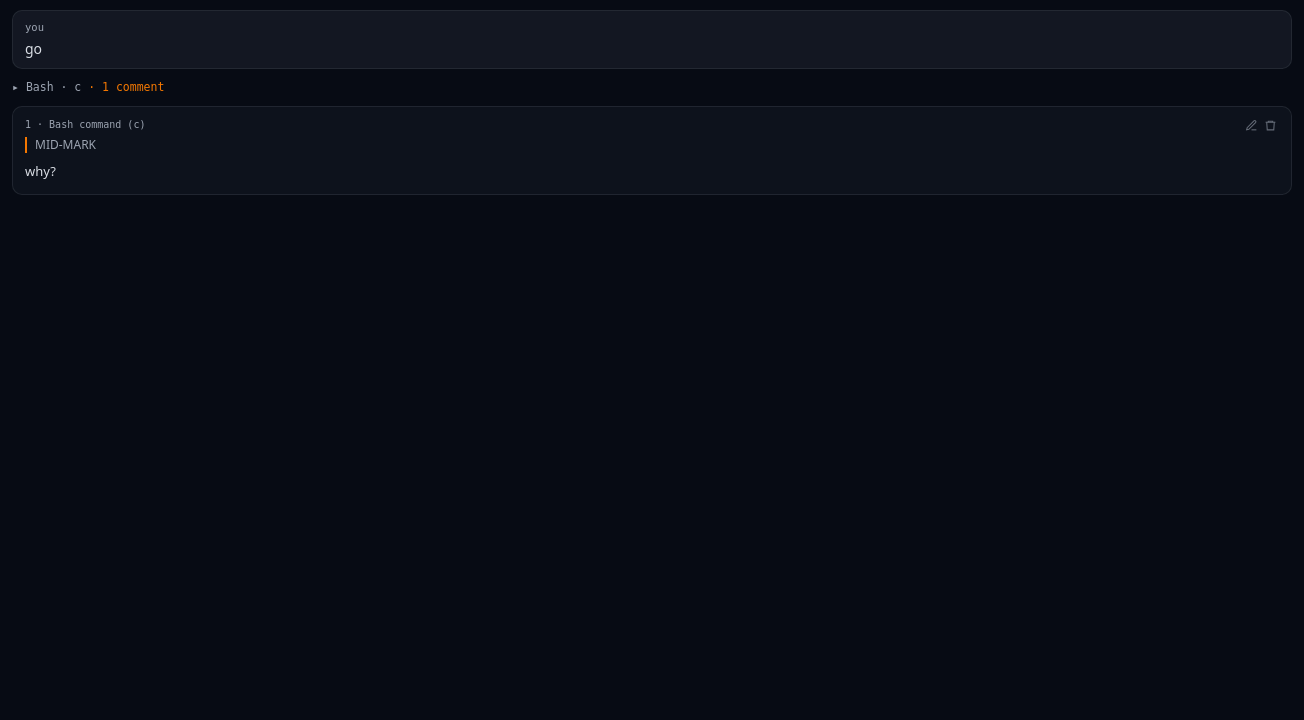
Test: a commented output renders up to its furthest comment plus a margin, not all of it, and the mark resolves
The width and height of the screenshot is (1304, 720).
Click the text "MID-MARK" at x=652, y=145, box [25, 137, 1279, 153]
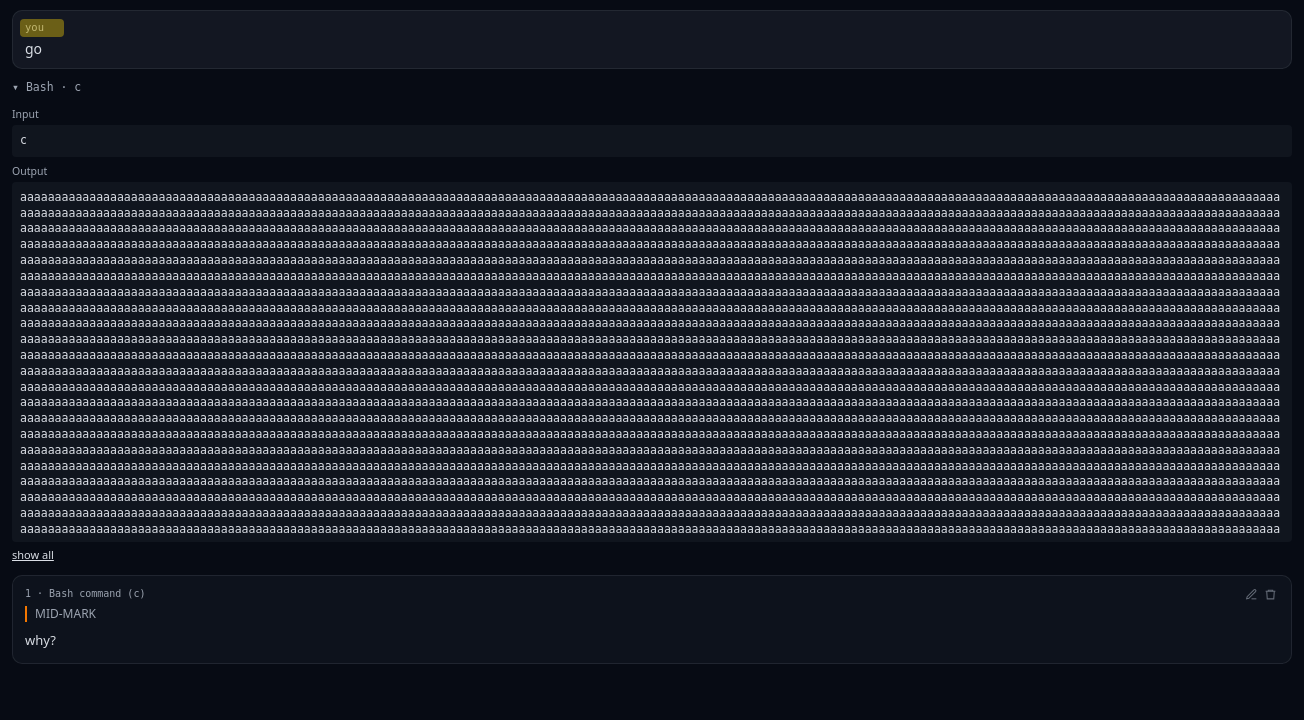
Now the button "show all" is shown, box [12, 546, 54, 563]
